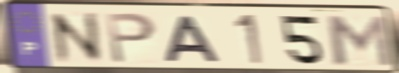1: (233, 13, 264, 67)
5: (278, 14, 325, 66)
A: (164, 14, 224, 65)
M: (322, 13, 396, 68)
N: (47, 10, 108, 66)
P: (103, 11, 159, 66)
